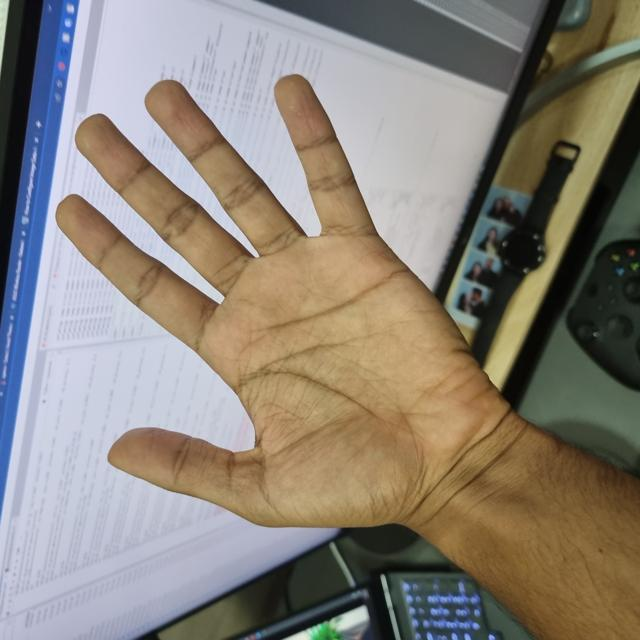Paper: (109, 49, 567, 501)
